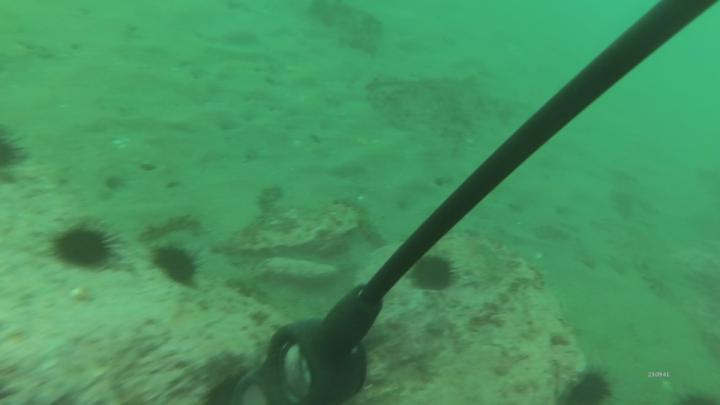echinus: (49, 213, 128, 268), (150, 238, 208, 289), (553, 363, 619, 405), (411, 255, 465, 295)
